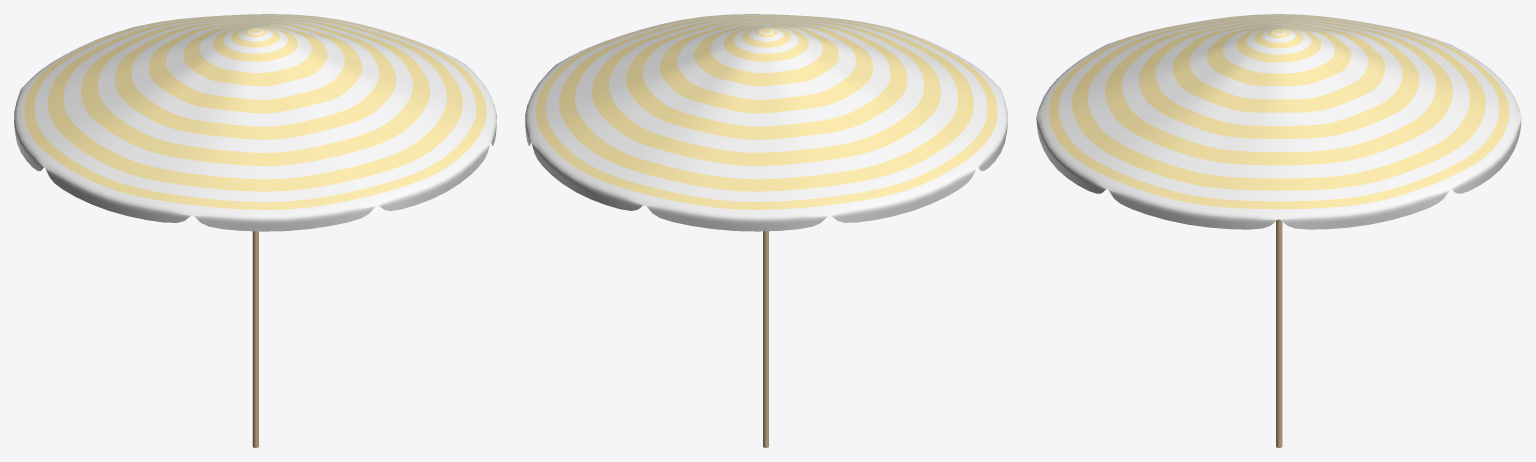
Rendered from şemsiye.fbx.
The picture shows the model from 3 angles, left to right: view 1: azimuth 30°, elevation 25°; view 2: azimuth 150°, elevation 25°; view 3: azimuth 270°, elevation 25°; orthographic projection.
Parts seen in each view (by area): view 1: Cylinder.008; view 2: Cylinder.008; view 3: Cylinder.008.
Part boxes in pixels (x1,y1,x2,y2): Cylinder.008: (14,14,496,447); Cylinder.008: (525,14,1007,447); Cylinder.008: (1036,14,1521,447).
Bounding box in the file's own units: 2613 × 2465 × 2613.
